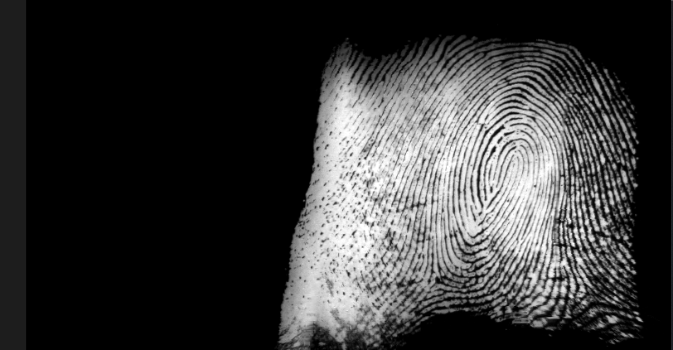nucelo: (505, 145, 523, 189)
verticilo: (422, 267, 450, 290), (572, 284, 605, 301)
